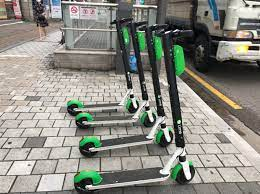kick_body: (105, 170, 164, 185), (100, 137, 153, 146), (90, 116, 136, 123), (84, 103, 123, 109)
kick_handler: (156, 28, 192, 38), (139, 24, 169, 31), (113, 17, 133, 21)
kick_neck: (165, 45, 185, 149)
kick_wheel: (74, 170, 98, 194), (172, 160, 195, 183), (80, 136, 98, 156), (155, 127, 173, 147), (67, 99, 80, 115), (141, 112, 155, 126), (75, 115, 90, 128), (127, 98, 139, 113)
